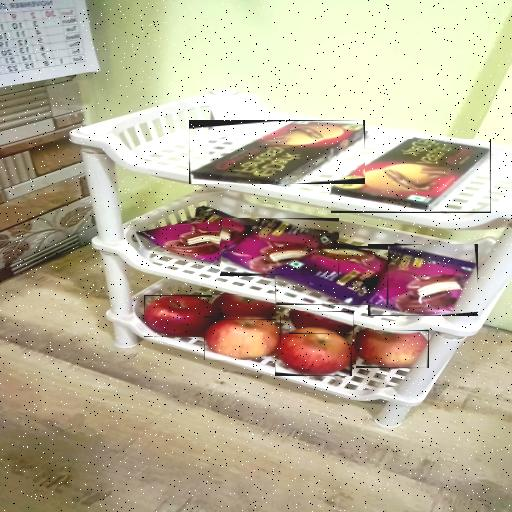Apple: (275, 329, 352, 376), (204, 316, 281, 360), (144, 295, 220, 337), (356, 330, 429, 368), (212, 294, 276, 320), (289, 311, 354, 334)
Choco Fills: (331, 139, 491, 213), (189, 120, 365, 184)
Choco Pie: (368, 244, 478, 316), (221, 218, 339, 275), (275, 246, 388, 305), (137, 208, 253, 264)
